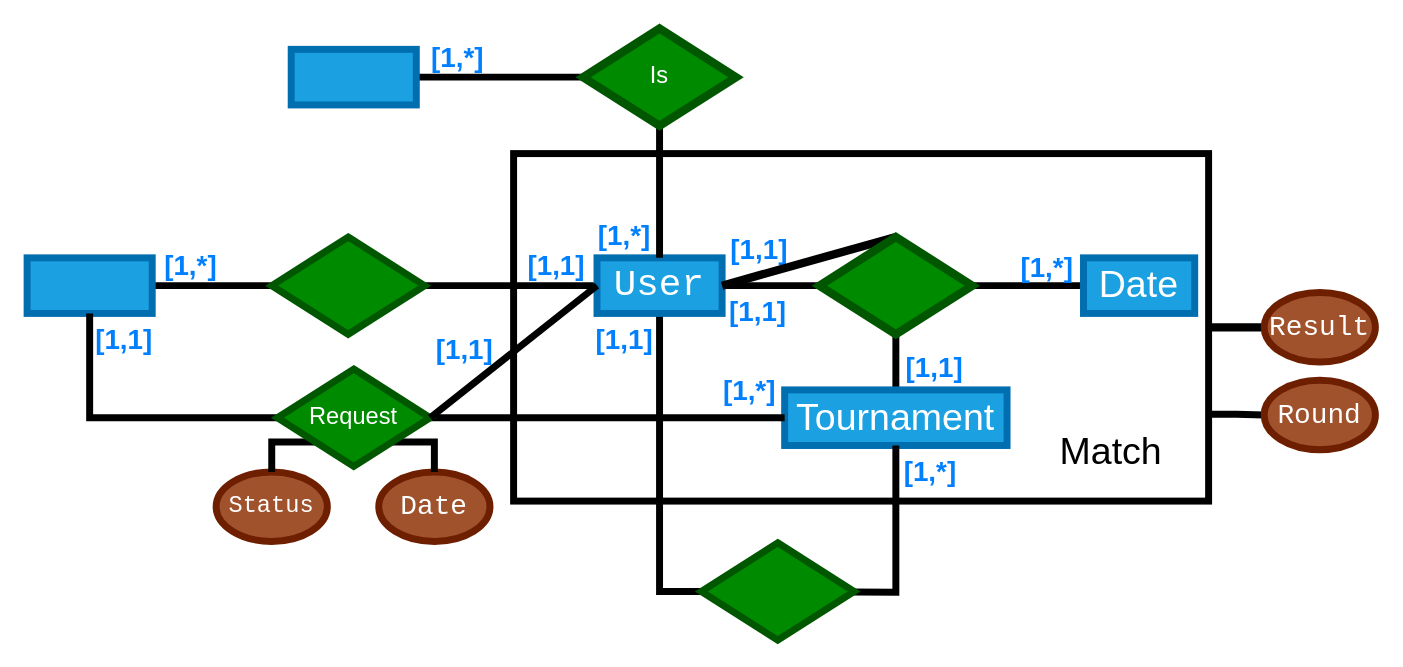
Some shapes in this 1403 by 667 pixel diagram are drawn without their labels. Each missing label, with the box of its shape:
Create: (697, 539, 857, 643)
Deck: (23, 254, 155, 316)
Has: (268, 233, 427, 337)
Play: (815, 232, 976, 338)
Role: (287, 45, 419, 108)
